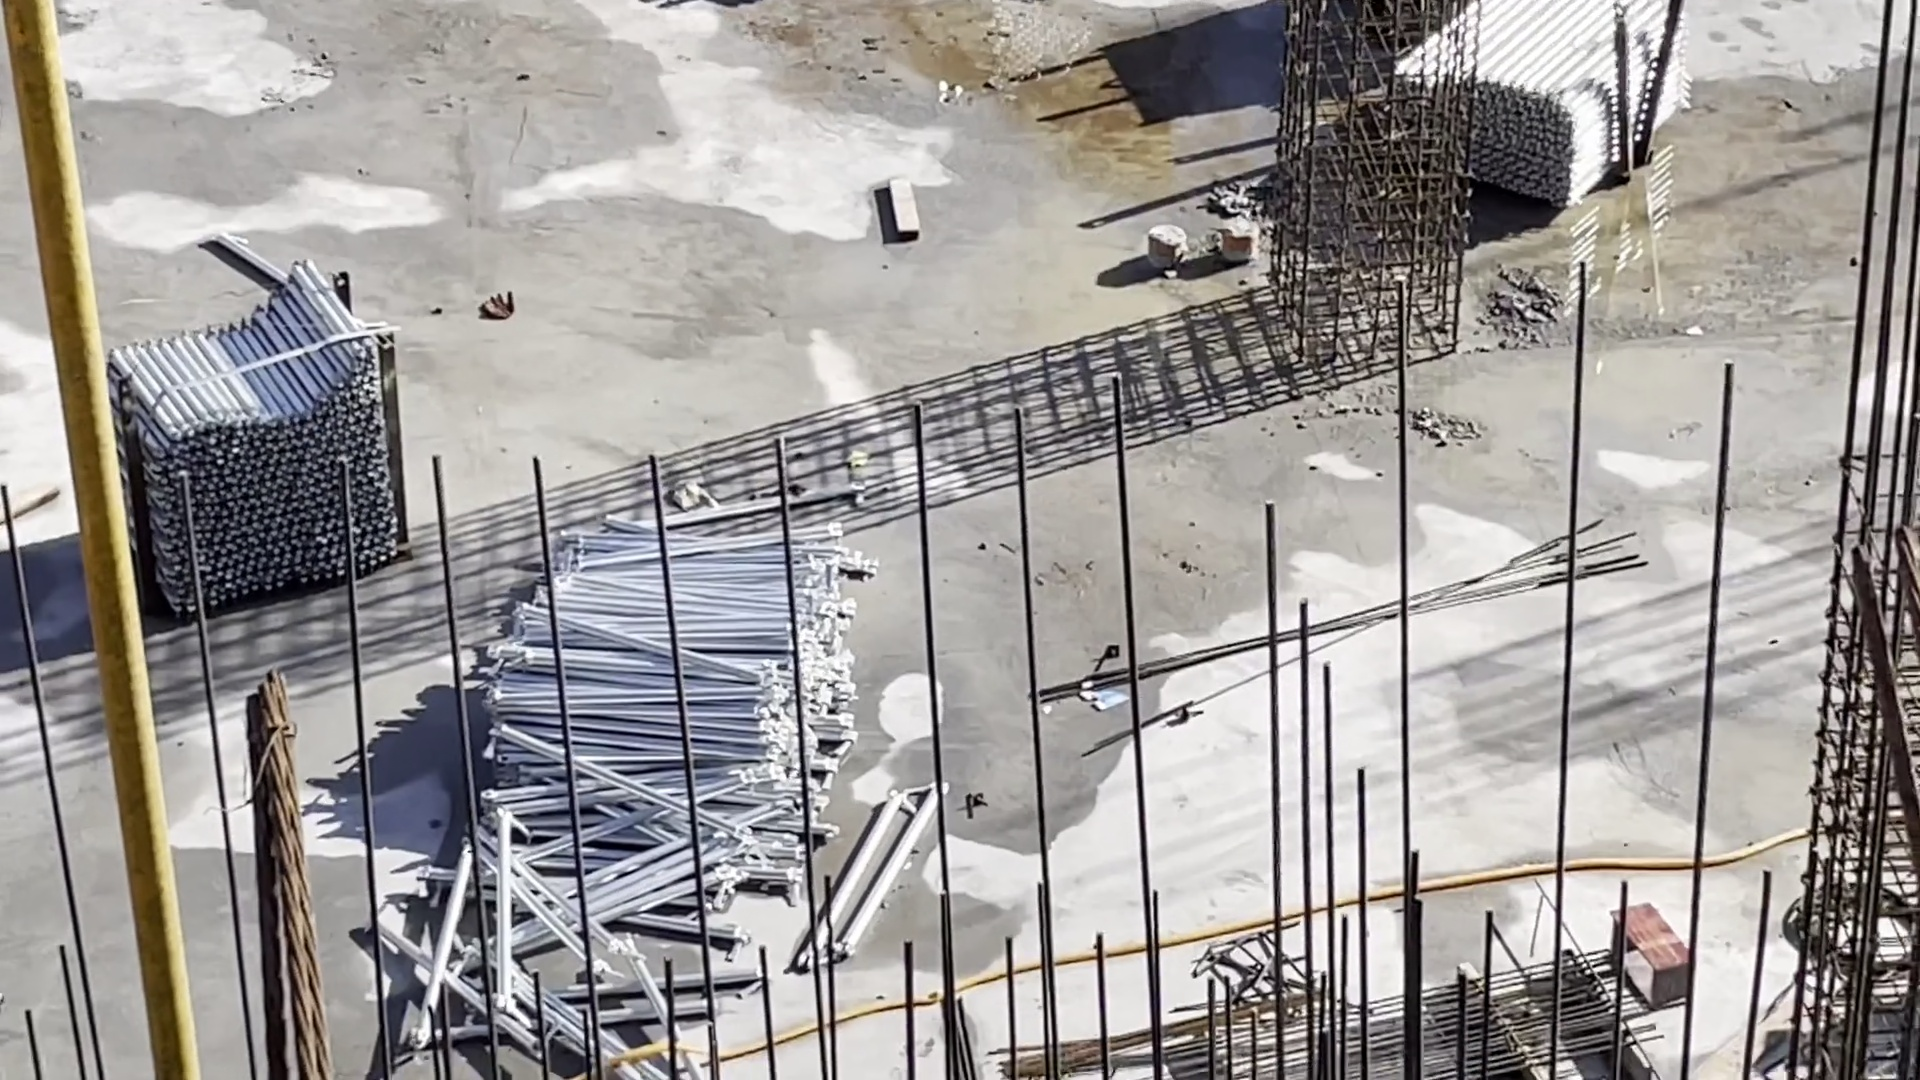scaffold: (429, 512, 866, 1067), (104, 255, 404, 620), (1385, 3, 1695, 208)
